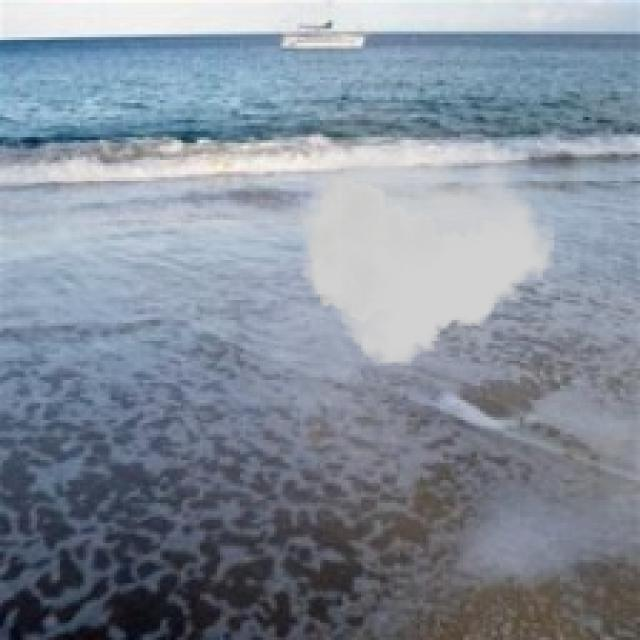Smoke: (297, 143, 554, 366)
